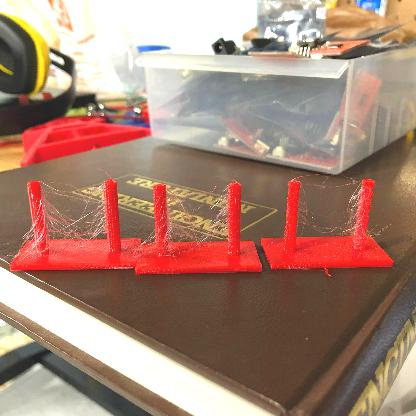fail: (40, 183, 104, 244), (166, 189, 223, 238), (319, 186, 361, 250)
